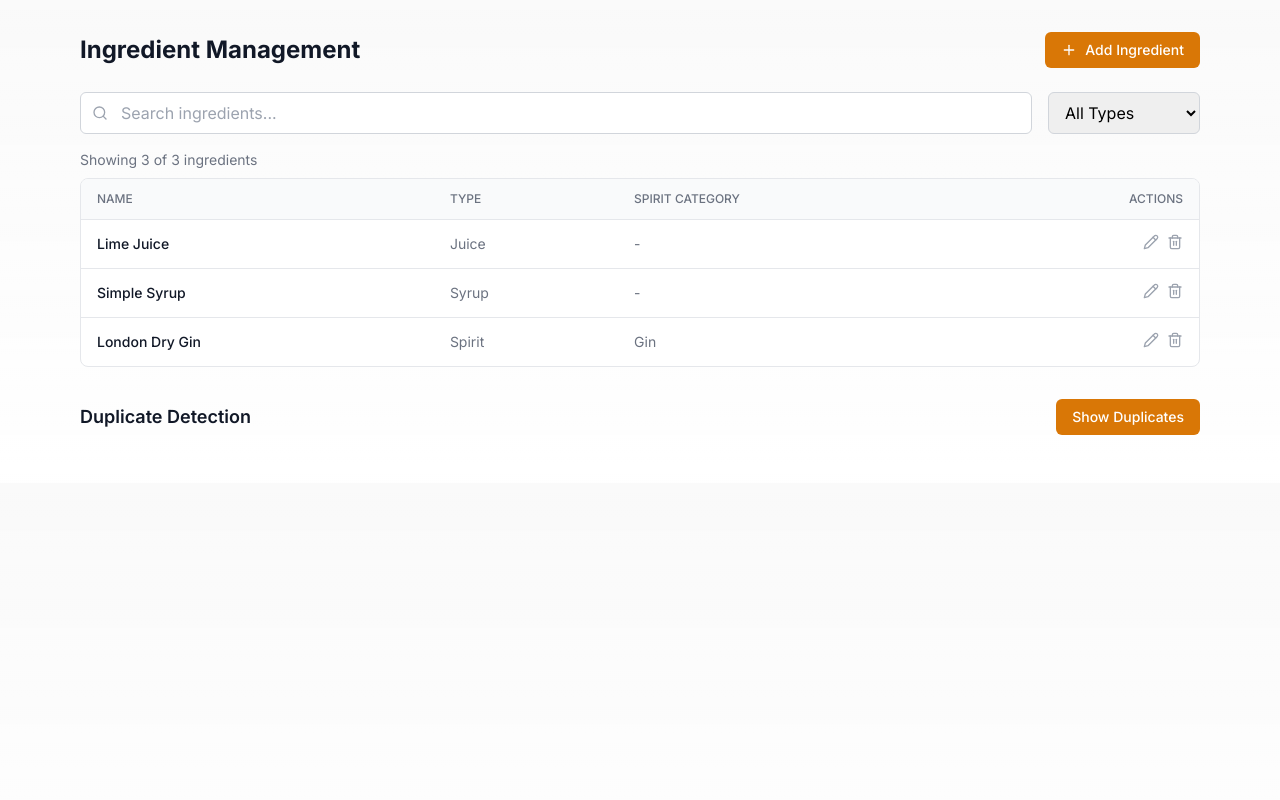
IngredientsPage › clicking edit icon opens edit modal
The width and height of the screenshot is (1280, 800).
Expected: the text "Lime Juice" is shown, [81,220,434,268]
Click the button named "edit" at (1151, 242), box [1143,234,1159,250]
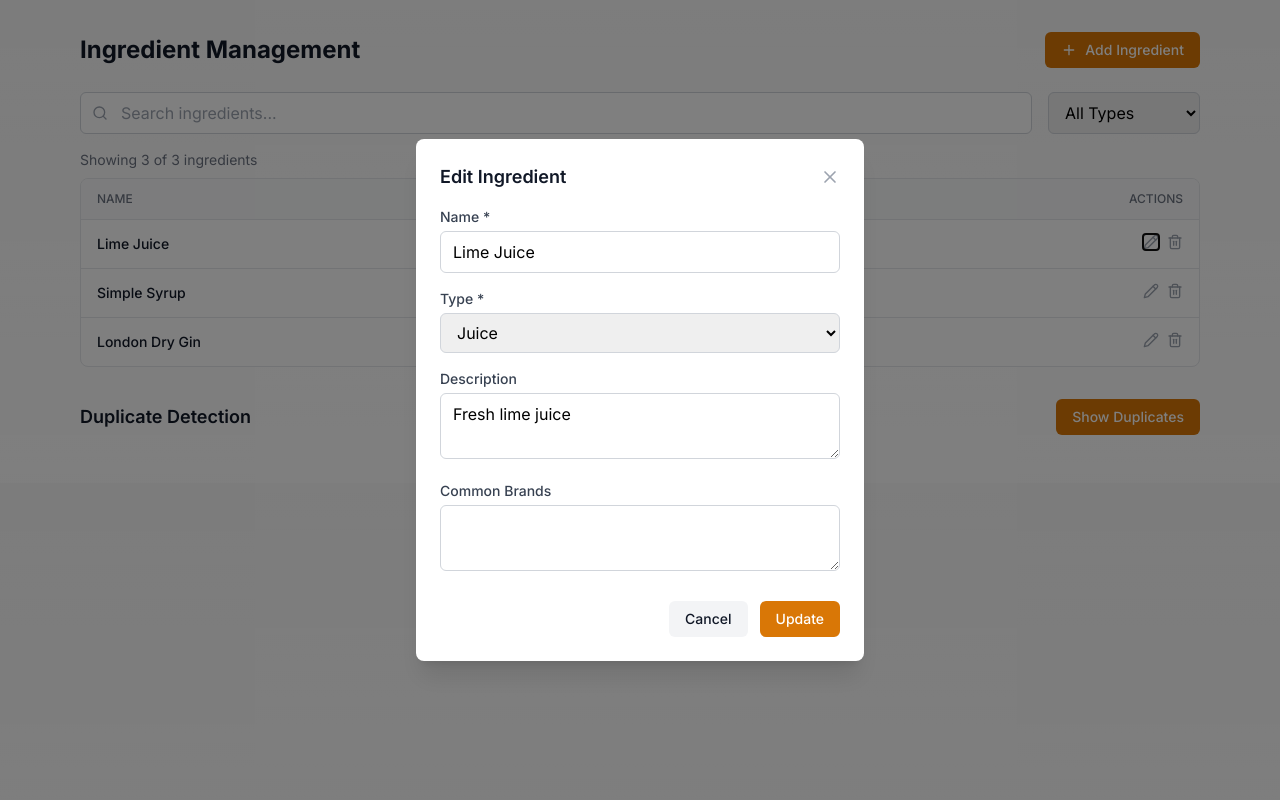
Now the heading "Edit Ingredient" is shown, box [440,163,566,191]
Now the field showing "Lime Juice" is shown, box [440,231,840,273]
